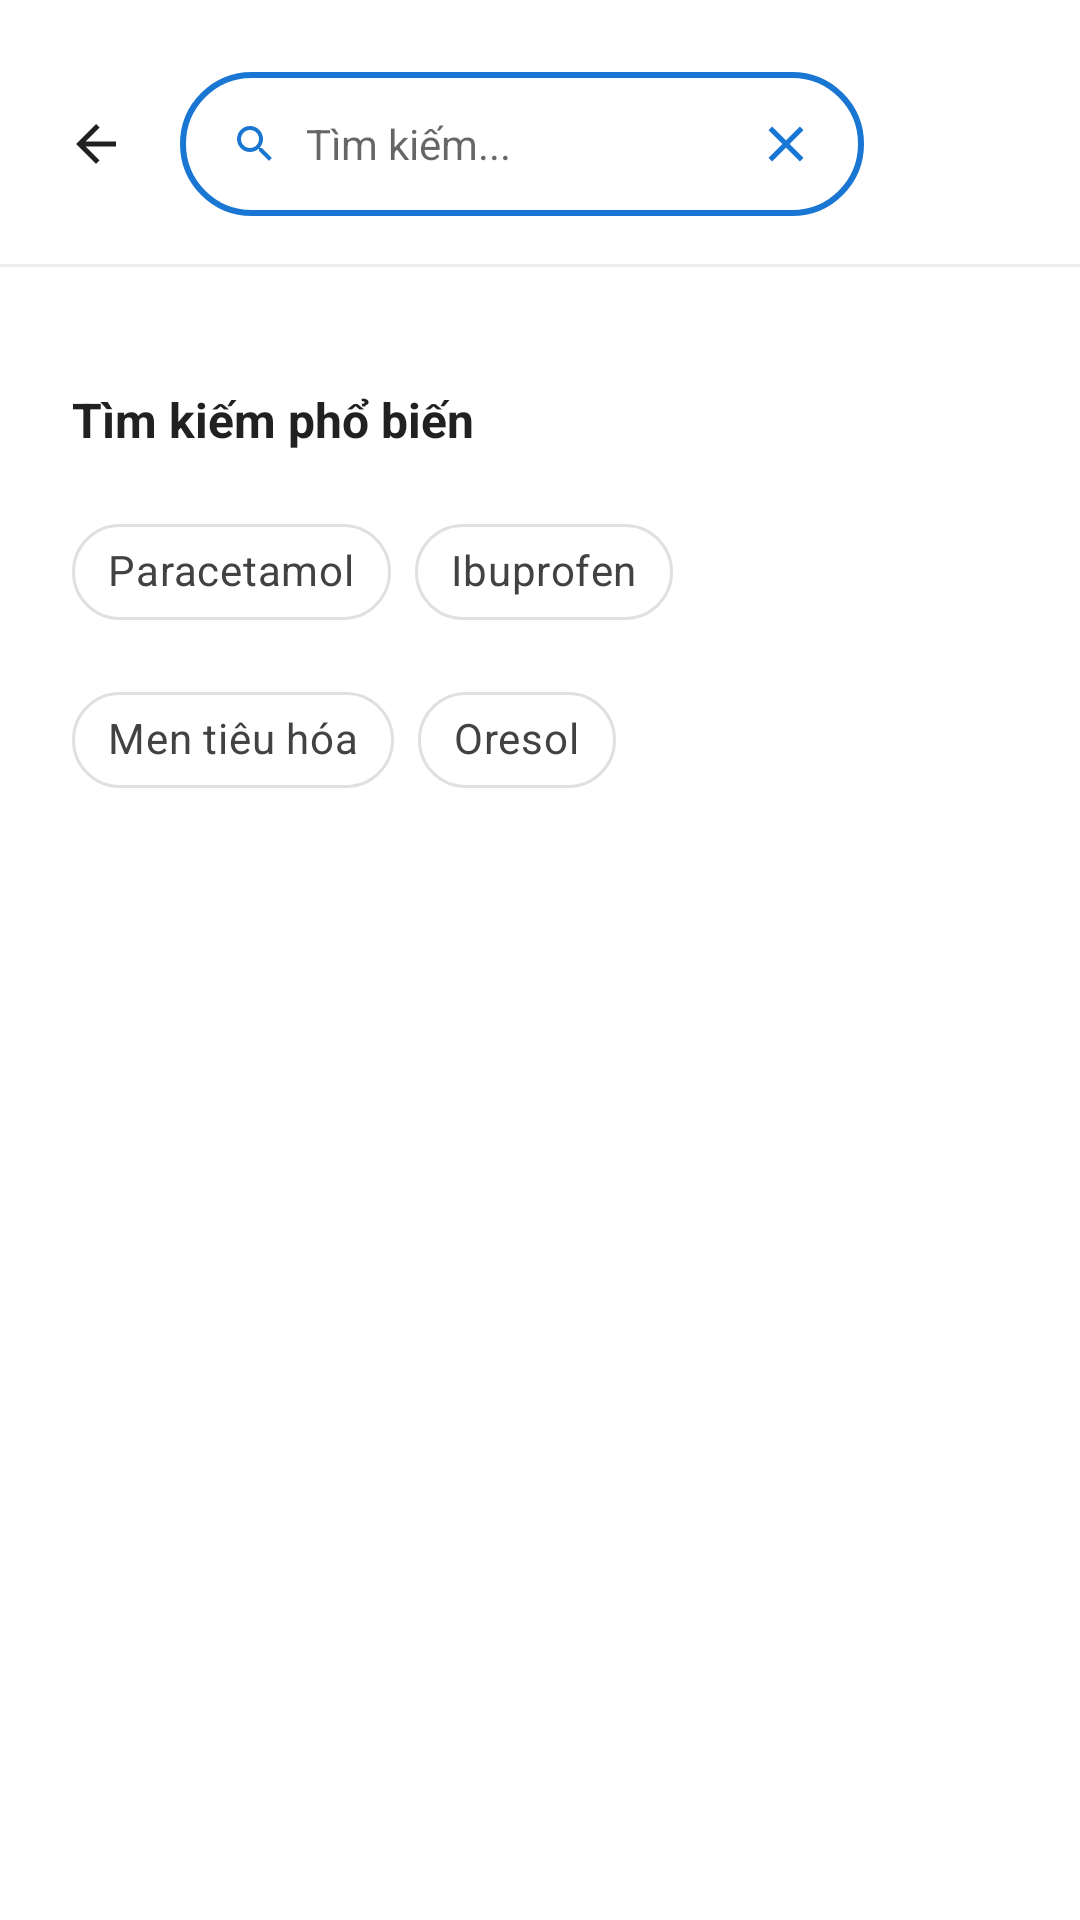

Screen size 1080 x 1920. Icon name, then its box in pixels as (x1, y1, x2, y2):
arrow back: (76, 124, 116, 164)
close: (768, 126, 804, 162)
search: (237, 126, 272, 161)
